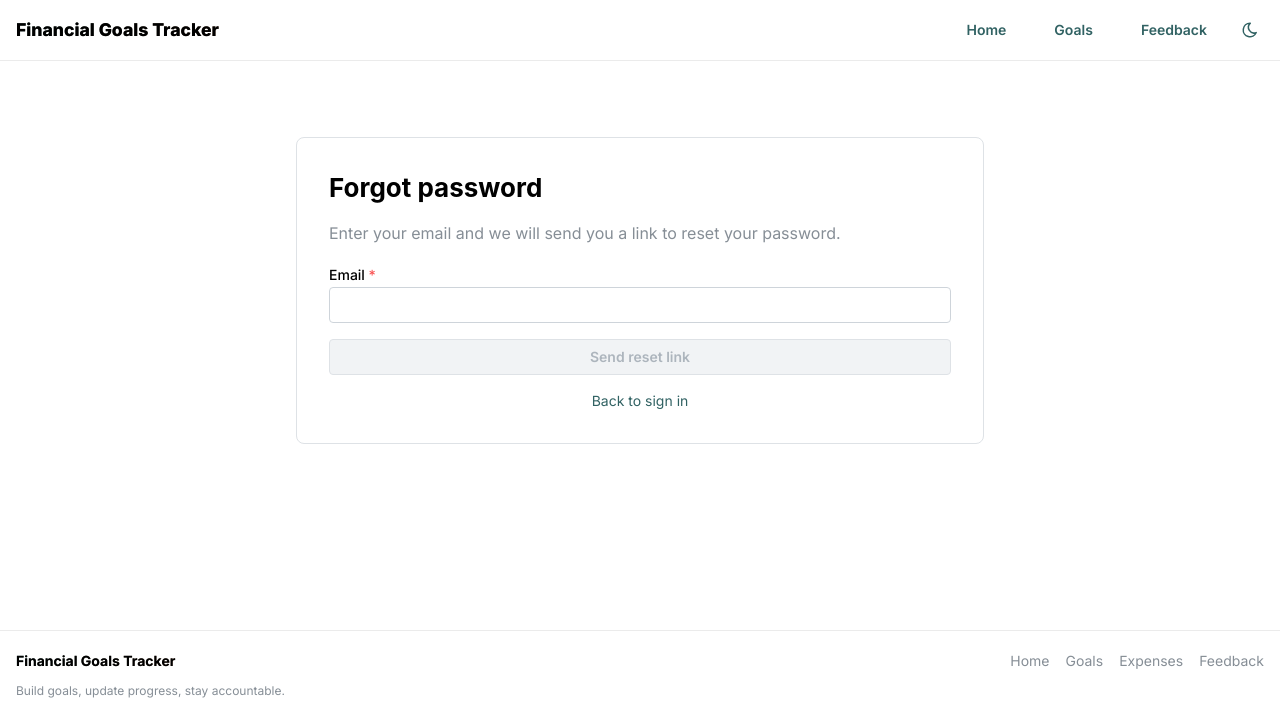
Test: Forgot Password Page › shows success state after submitting valid email
This screenshot has width=1280, height=720.
Step 1. Type "test@example.com" into the field labelled "Email *" → (640, 305), box 329,287 -> 951,323
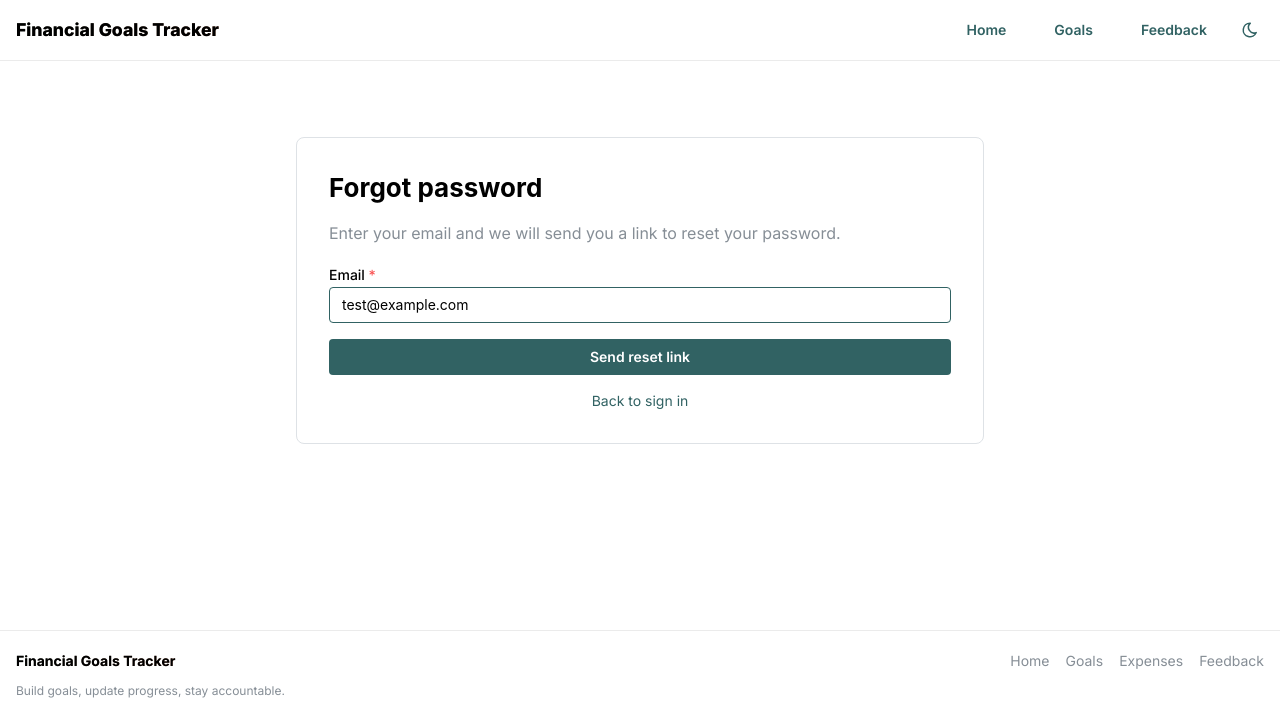
Step 2. Click the button "Send reset link" → (640, 357), box 329,339 -> 951,375
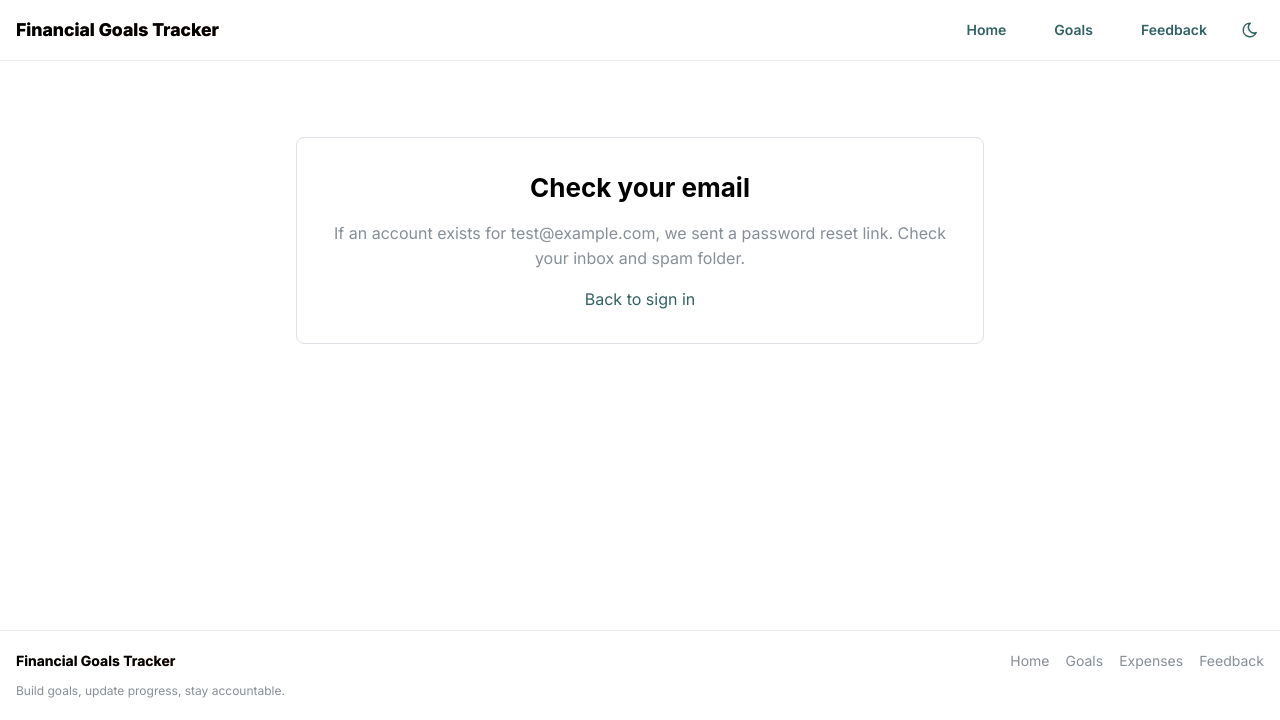
Expected: the heading "Check your email" is shown, 530,170 -> 750,205
Expected: the text "test@example.com" is shown, 511,223 -> 656,243
